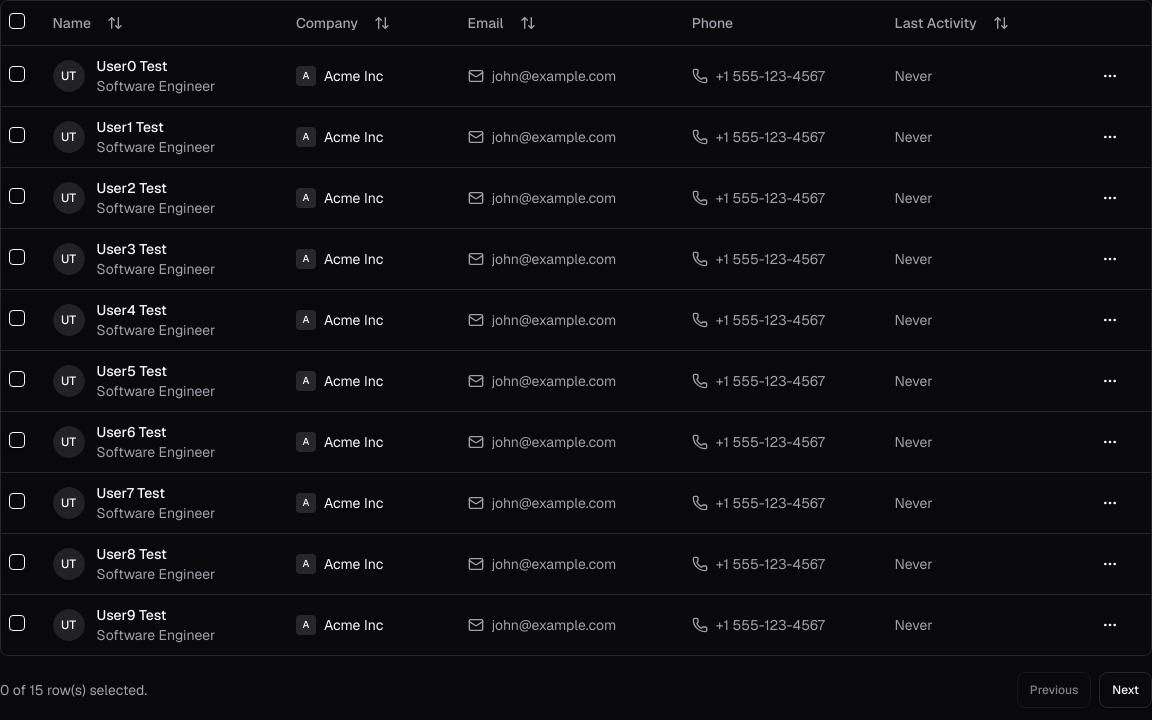
Scenario: ContactList › Pagination › navigates to next page when next is clicked
This screenshot has width=1152, height=720.
Click the button "Next": (1126, 690) 1099,672 -> 1151,708
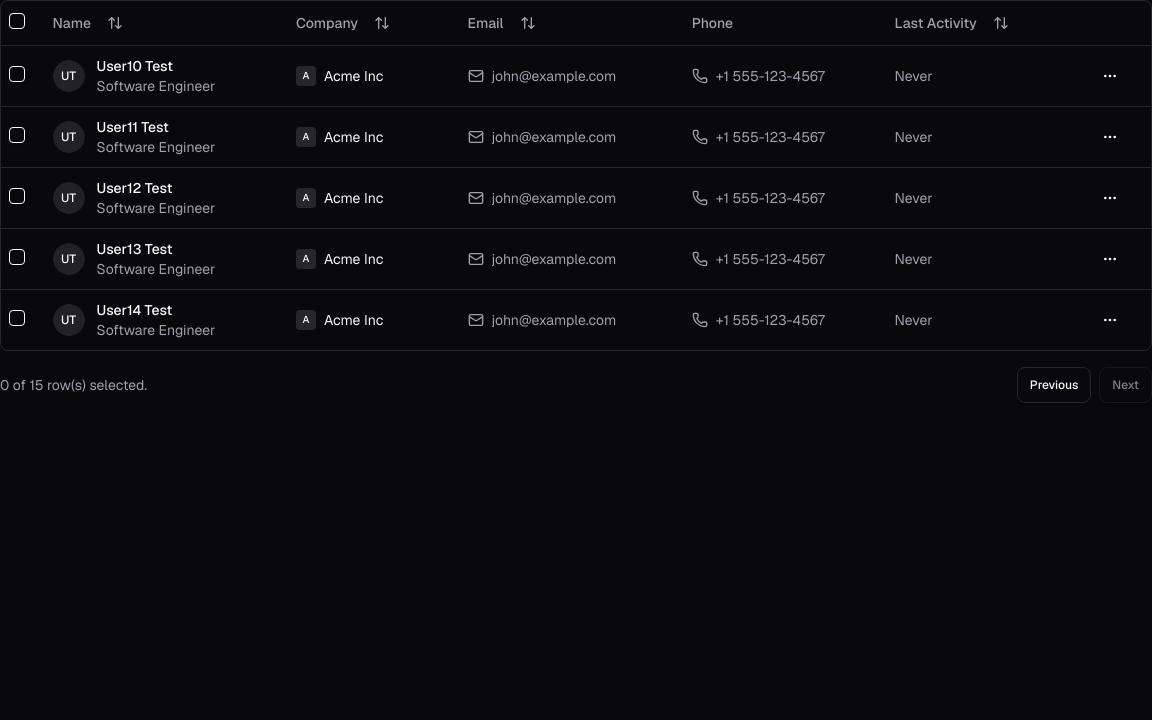
Result: the button "Previous" is enabled at 1017,367 -> 1091,403
